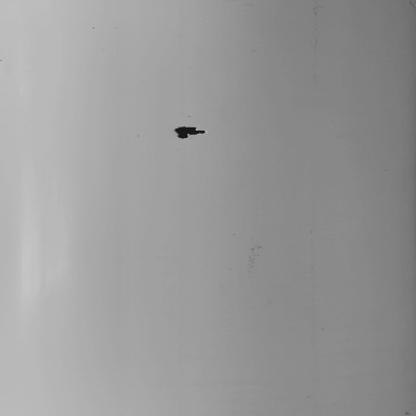kongdong: (166, 120, 215, 144)
